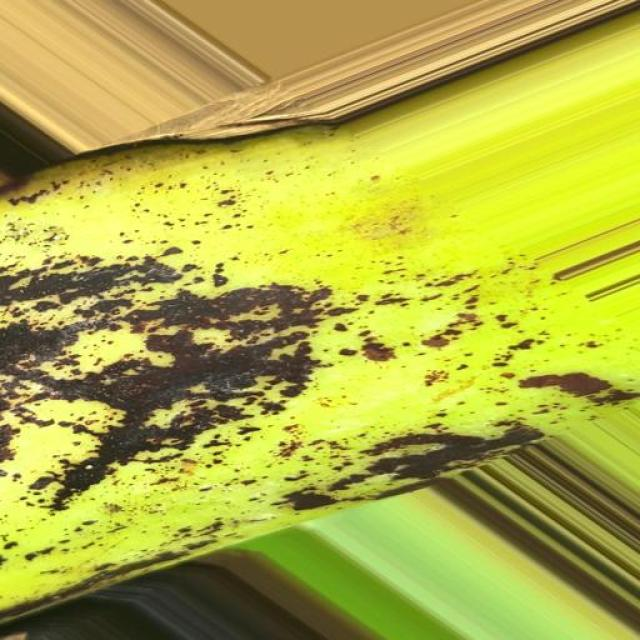Anthracnose: (0, 94, 640, 603)
